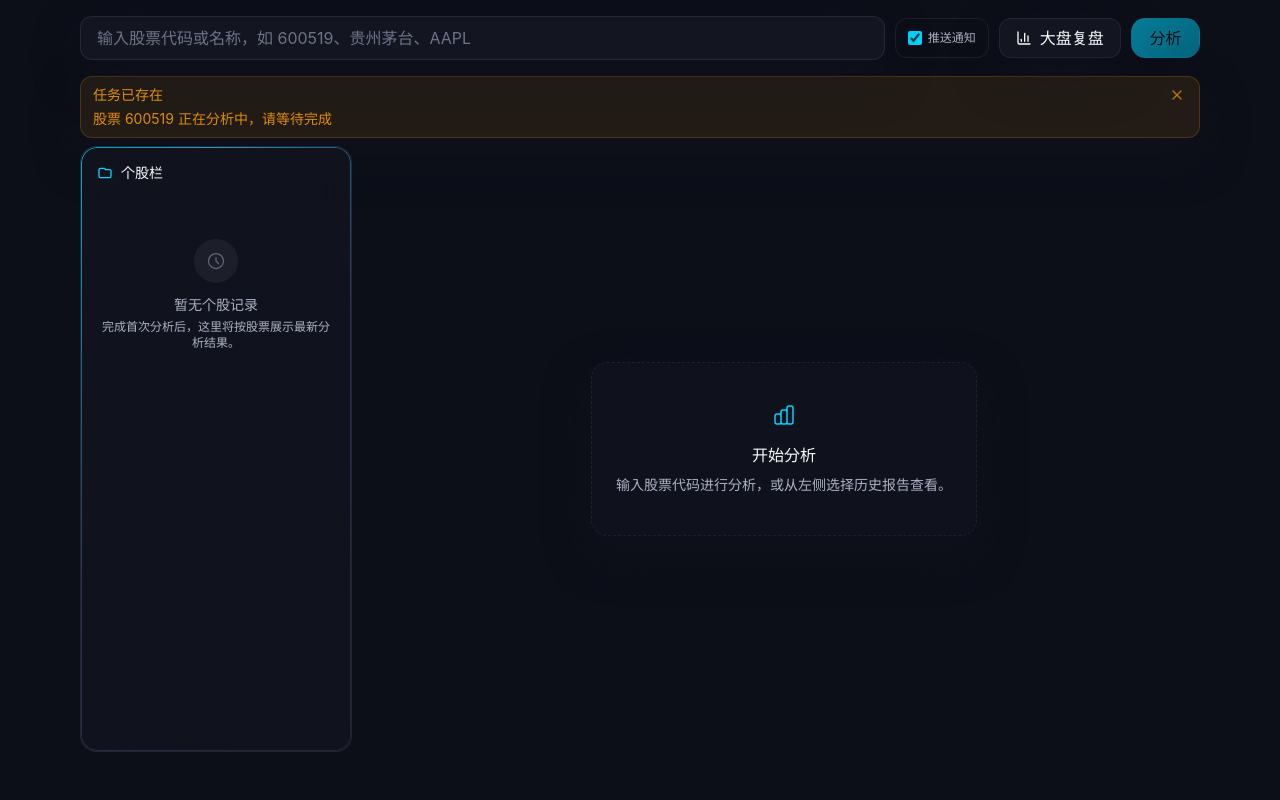
Test: HomePage › dismisses the duplicate task banner when its close button is clicked
The width and height of the screenshot is (1280, 800).
Expected: the field with placeholder "输入股票代码或名称，如 600519、贵州茅台、AAPL" is shown, [80,16,885,60]
Expected: the text "股票 600519 正在分析中，请等待完成" is shown, [93,109,332,129]
What coordinates should you click on to do the following:
click the button named "关闭"
I would click on:
 (1177, 95)
Its box is [1163,81,1191,109].
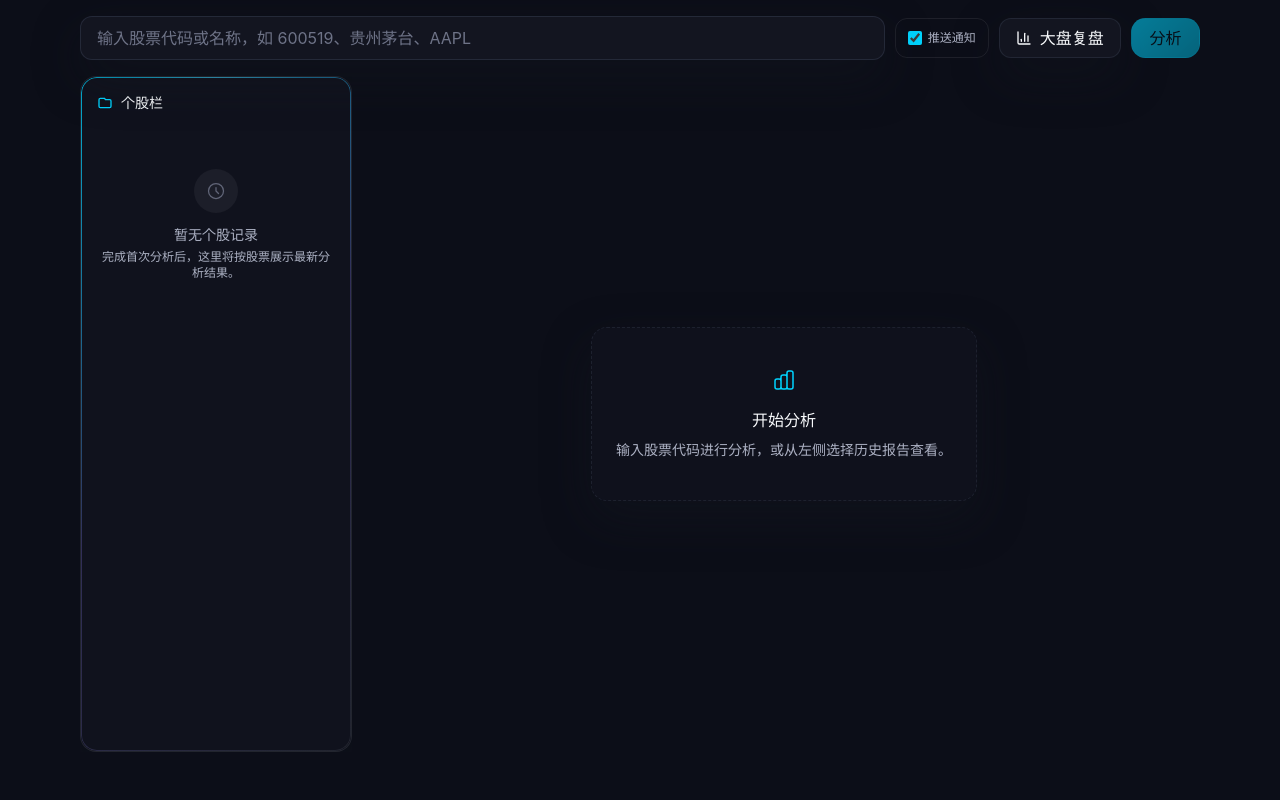
Expected: the text "股票 600519 正在分析中" is gone
